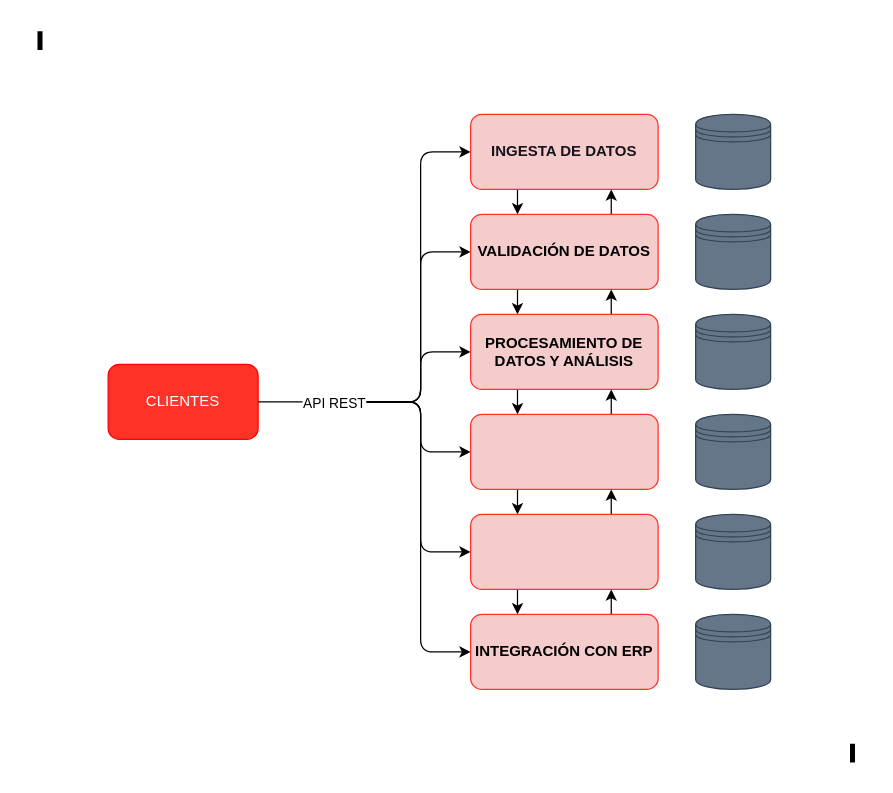
The diagram is 893 pixels wide and 793 high, and some of its shapes have lost their labels. Each missing label, with the box of its shape:
GENERACIÓN DE ÓRDENES: (469, 513, 658, 589)
PREDICCIÓN: (469, 413, 658, 489)
